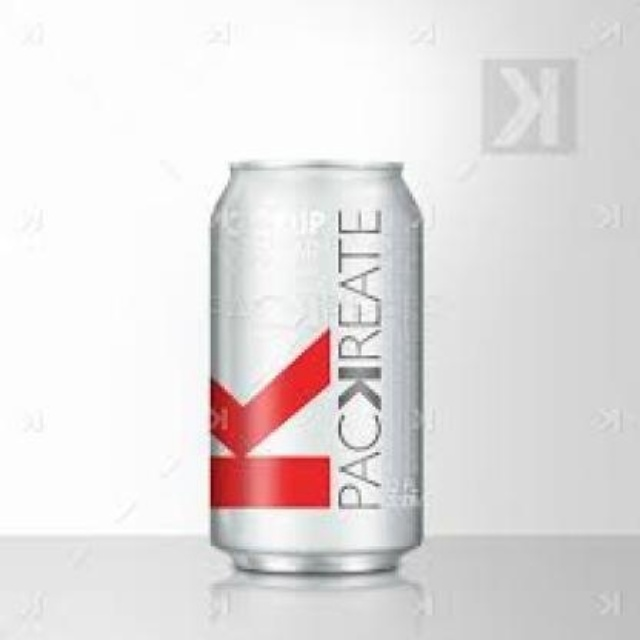trash: (211, 163, 422, 571)
